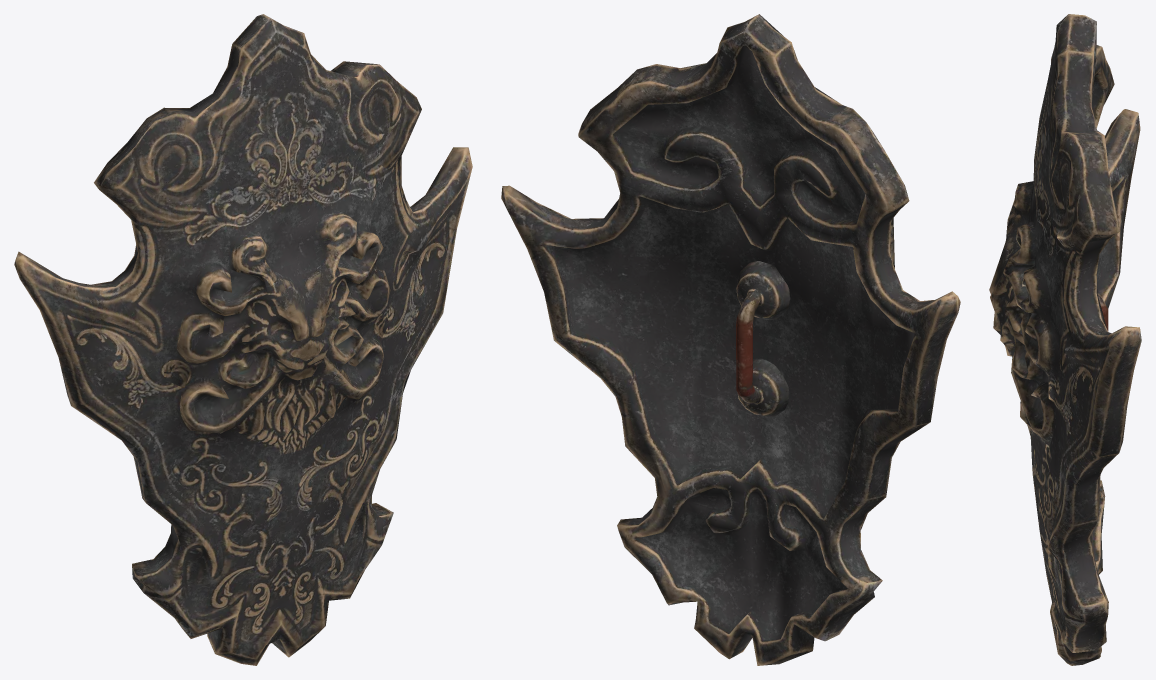
File: shield-transformed.glb
The picture shows the model from 3 angles, left to right: view 1: azimuth 30°, elevation 25°; view 2: azimuth 150°, elevation 25°; view 3: azimuth 270°, elevation 25°; orthographic projection.
Visible parts, largest first — view 1: final_shield_high.002; view 2: final_shield_high.002; view 3: final_shield_high.002.
Part boxes in pixels (<box>): final_shield_high.002: <box>14,14,472,665</box>; final_shield_high.002: <box>501,14,960,665</box>; final_shield_high.002: <box>989,14,1141,665</box>.
Size of the model in its own units: 0.74 by 0.9996 by 0.2156.
Materials: 1 (1 with a texture image).
